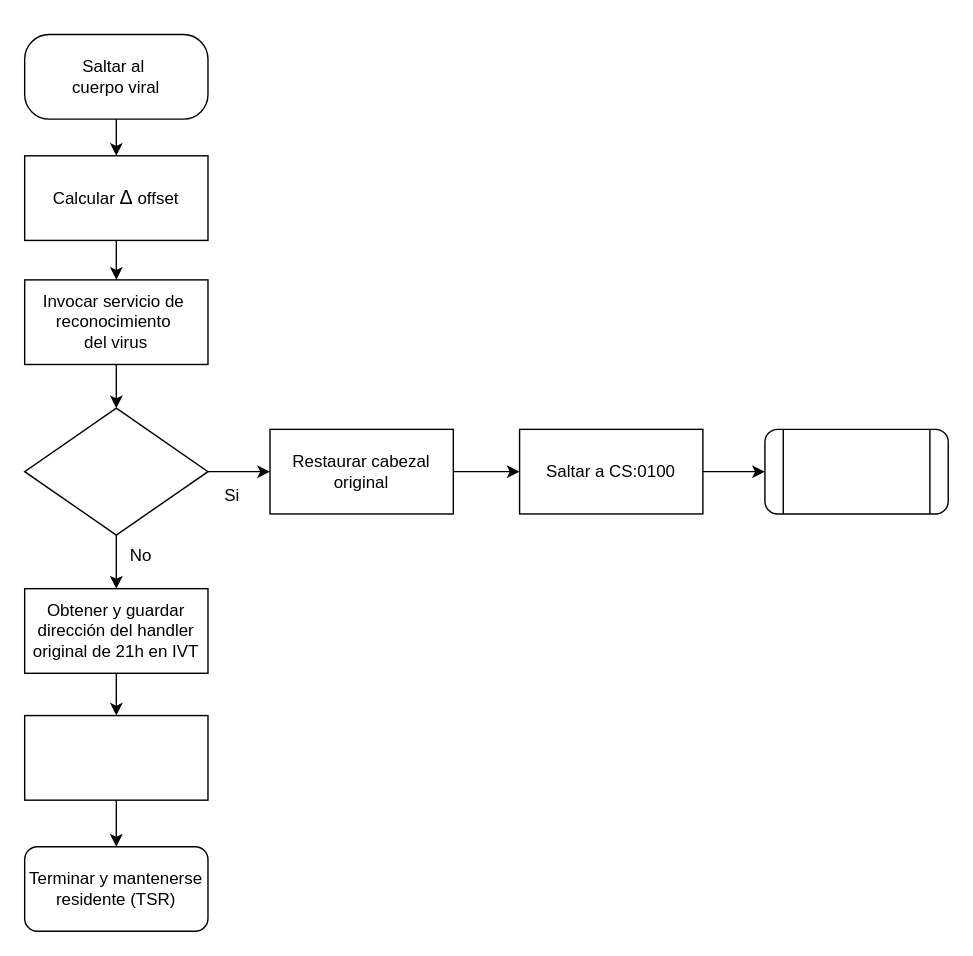
Image size: 973x956. Some labels were removed from this diagram. Each missing label, with the centre of its shape:
"Ejecutar huésped" goes at [856,471].
"Enganchar nuevo handler viral antes del original" goes at [115,757].
"Ya se encuentra en memoria?" goes at [115,471].
